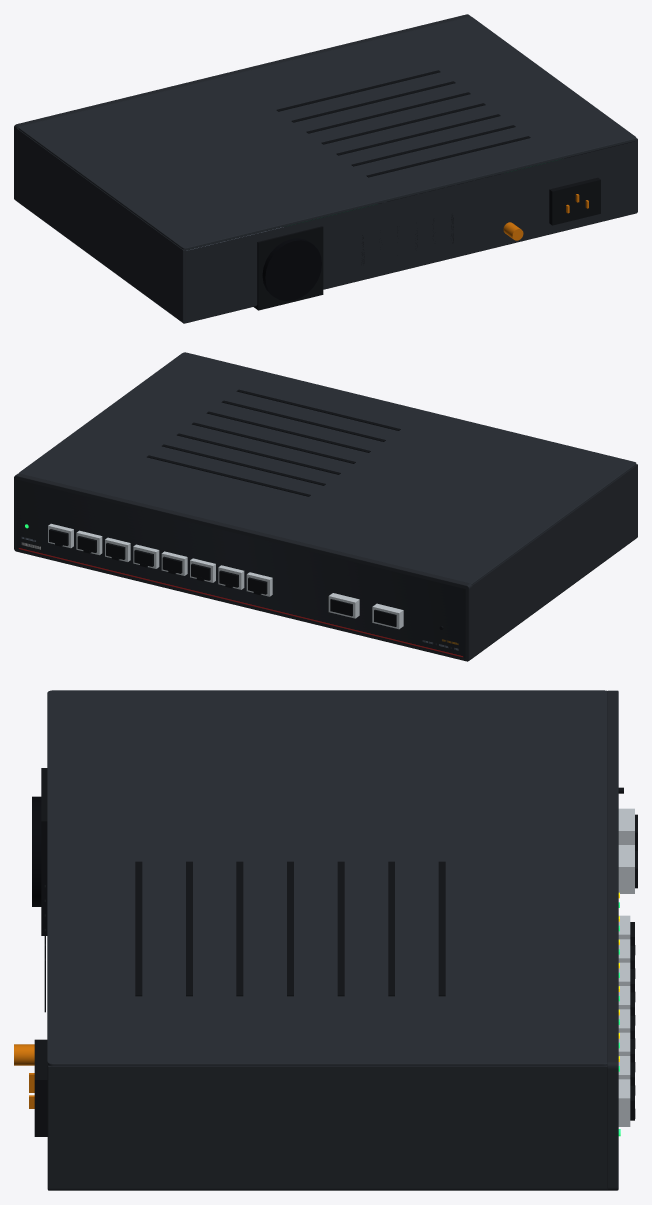
The model's file is poe-switch-8.glb.
3 renders of one model, top to bottom at view 1: azimuth 30°, elevation 25°; view 2: azimuth 150°, elevation 25°; view 3: azimuth 270°, elevation 25°, orthographic. The views are drawn at different scales.
Visible parts, largest first — view 1: Sw8_TopCover, Sw8CaseMetal_125, Sw8_UChassis, part_133, Sw8CaseMetal_12, Sw8BlackLcp_126, Sw8BlackLcp_132, Sw8BlackLcp_06, Sw8BlackLcp_08, Sw8BlackLcp_10, Sw8BlackLcp_07, Sw8BlackLcp_09 (+2 smaller); view 2: Sw8_TopCover, Sw8_FrontPanel, Sw8_UChassis, Sw8CaseMetal_12, Sw8BlackLcp_06, Sw8BlackLcp_08, Sw8BlackLcp_09, Sw8BlackLcp_11, Sw8BlackLcp_07, Sw8BlackLcp_10, Sw8BlackLcp_05; view 3: Sw8_TopCover, Sw8_UChassis, Sw8CaseMetal_12, Sw8BlackLcp_126, Sw8BlackLcp_132, part_133, Sw8BlackLcp_05, Sw8BlackLcp_07, Sw8BlackLcp_09, Sw8BlackLcp_11, Sw8BlackLcp_06, Sw8BlackLcp_08 (+2 smaller).
Part boxes in pixels (x1=…): Sw8_TopCover: x1=18, y1=16, x2=636, y2=250; Sw8CaseMetal_125: x1=186, y1=141, x2=636, y2=322; Sw8_UChassis: x1=17, y1=128, x2=637, y2=323; part_133: x1=262, y1=238, x2=321, y2=301; Sw8CaseMetal_12: x1=14, y1=14, x2=471, y2=201; Sw8BlackLcp_126: x1=549, y1=177, x2=600, y2=225; Sw8BlackLcp_132: x1=254, y1=226, x2=323, y2=310; Sw8BlackLcp_06: x1=351, y1=125, x2=515, y2=166; Sw8BlackLcp_08: x1=321, y1=103, x2=485, y2=144; Sw8BlackLcp_10: x1=291, y1=81, x2=455, y2=122; Sw8BlackLcp_07: x1=336, y1=114, x2=500, y2=155; Sw8BlackLcp_09: x1=306, y1=92, x2=470, y2=133; Sw8_TopCover: x1=19, y1=352, x2=636, y2=584; Sw8_FrontPanel: x1=16, y1=479, x2=465, y2=658; Sw8_UChassis: x1=472, y1=464, x2=637, y2=658; Sw8CaseMetal_12: x1=14, y1=473, x2=472, y2=661; Sw8BlackLcp_06: x1=221, y1=400, x2=385, y2=441; Sw8BlackLcp_08: x1=192, y1=422, x2=355, y2=463; Sw8BlackLcp_09: x1=177, y1=433, x2=340, y2=474; Sw8BlackLcp_11: x1=147, y1=455, x2=310, y2=496; Sw8BlackLcp_07: x1=206, y1=411, x2=370, y2=452; Sw8BlackLcp_10: x1=162, y1=444, x2=325, y2=485; Sw8BlackLcp_05: x1=236, y1=389, x2=400, y2=430; Sw8_TopCover: x1=47, y1=690, x2=607, y2=1066; Sw8_UChassis: x1=47, y1=1065, x2=608, y2=1190; Sw8CaseMetal_12: x1=607, y1=690, x2=618, y2=1190; Sw8BlackLcp_126: x1=34, y1=1039, x2=47, y2=1136; Sw8BlackLcp_132: x1=41, y1=768, x2=47, y2=935; part_133: x1=32, y1=796, x2=41, y2=906; Sw8BlackLcp_05: x1=135, y1=861, x2=142, y2=996; Sw8BlackLcp_07: x1=236, y1=861, x2=243, y2=996; Sw8BlackLcp_09: x1=337, y1=861, x2=344, y2=996; Sw8BlackLcp_11: x1=438, y1=861, x2=445, y2=996; Sw8BlackLcp_06: x1=186, y1=861, x2=192, y2=996; Sw8BlackLcp_08: x1=287, y1=861, x2=293, y2=996.
Size of the model in its own units: 0.2808 by 0.0472 by 0.1974.
30 materials, 1 textured.
